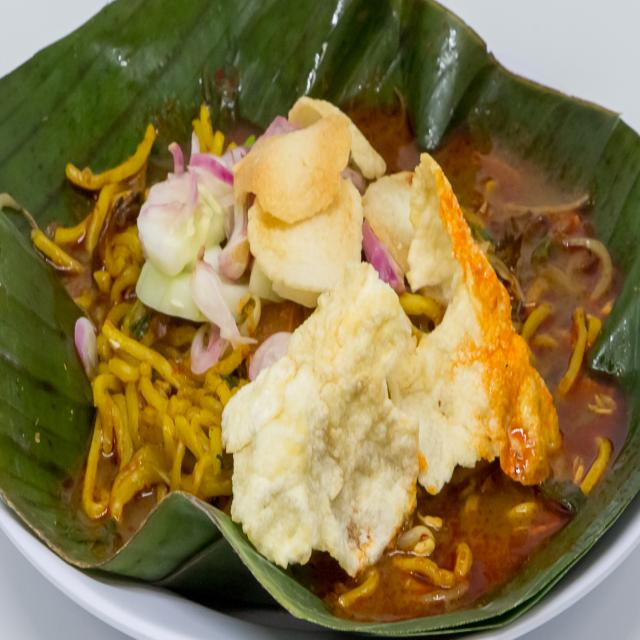Mie-Aceh: (24, 70, 634, 610)
